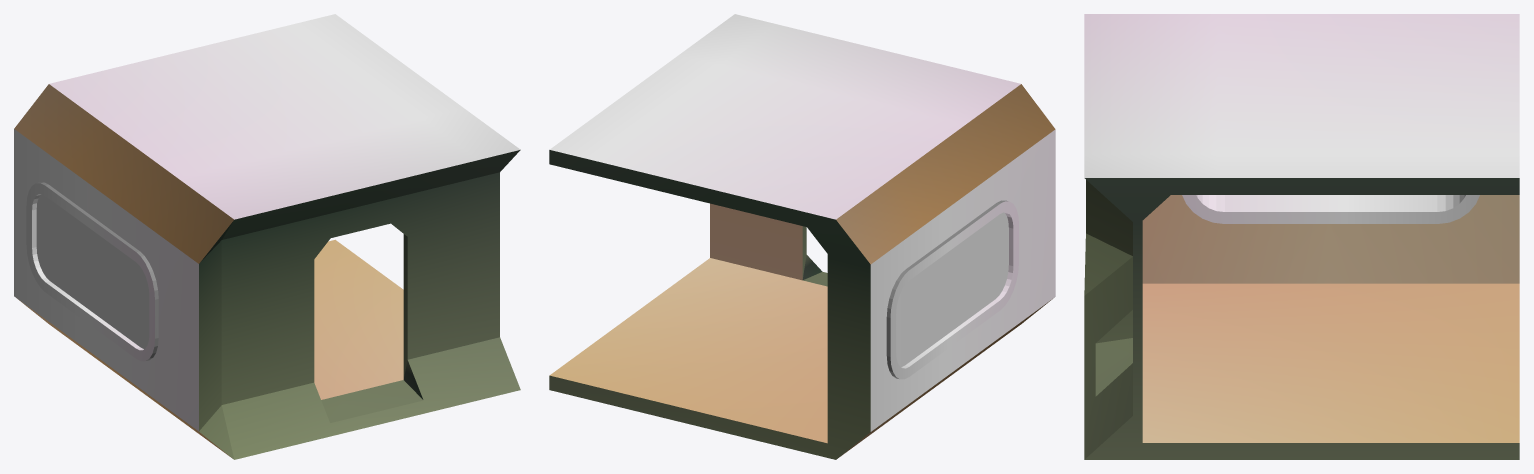
File: R_OutWall_CornerDoor_Window_L.fbx
3 views of the same model, side by side, from view 1: azimuth 30°, elevation 25°; view 2: azimuth 150°, elevation 25°; view 3: azimuth 270°, elevation 25° (orthographic). The views are drawn at different scales.
Parts seen in each view (by area): view 1: R_OutWall_CornerDoor_Window_L; view 2: R_OutWall_CornerDoor_Window_L; view 3: R_OutWall_CornerDoor_Window_L.
Part boxes in pixels (box(x1,y1,x2,y2)): R_OutWall_CornerDoor_Window_L: box(14, 14, 520, 459); R_OutWall_CornerDoor_Window_L: box(549, 14, 1055, 459); R_OutWall_CornerDoor_Window_L: box(1084, 14, 1519, 459).
Bounding box in the file's own units: 467 × 330 × 462.
